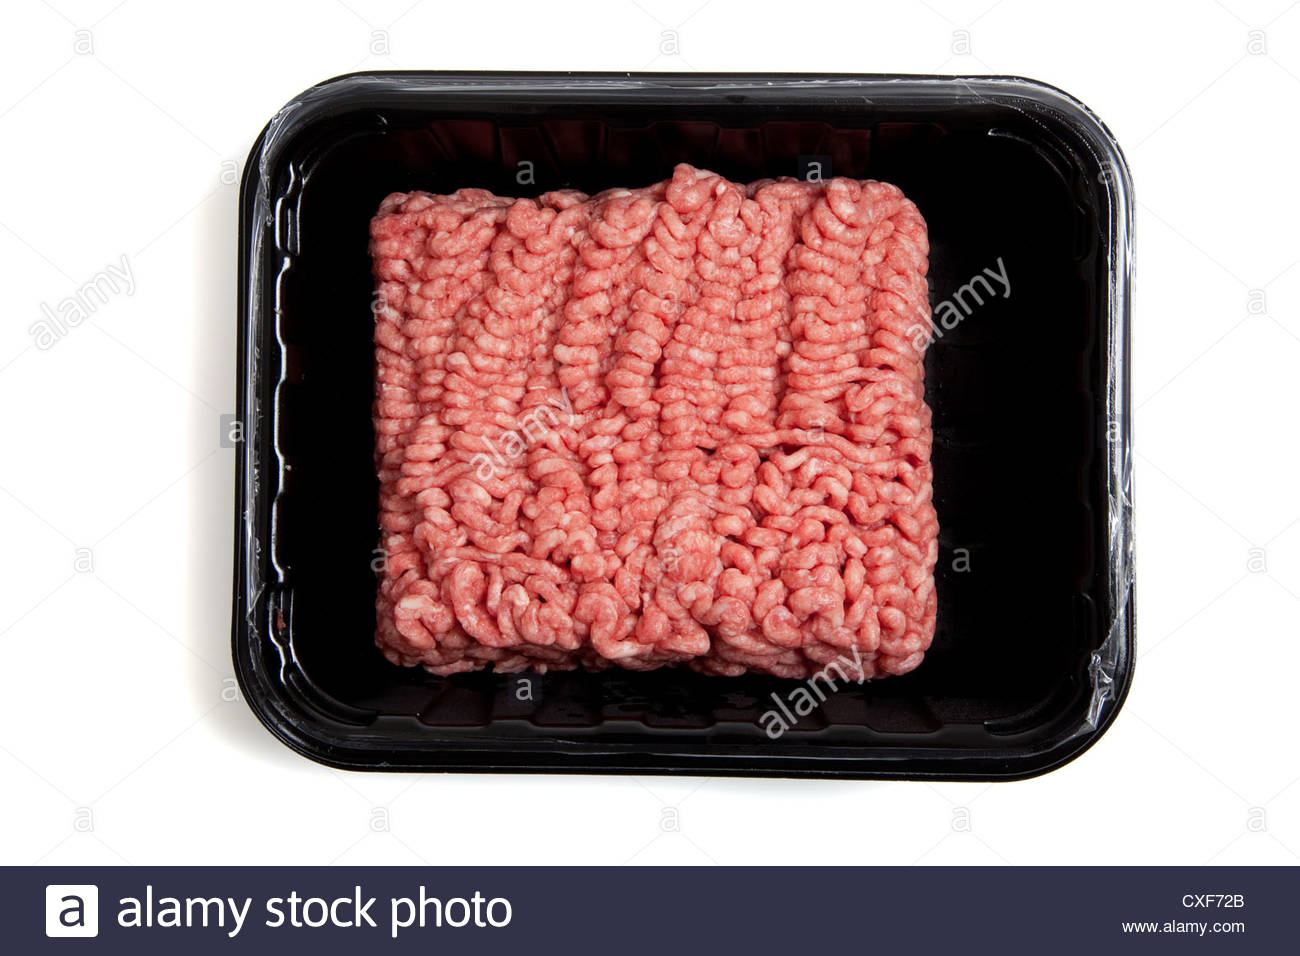ground_beef: (341, 176, 952, 694)
